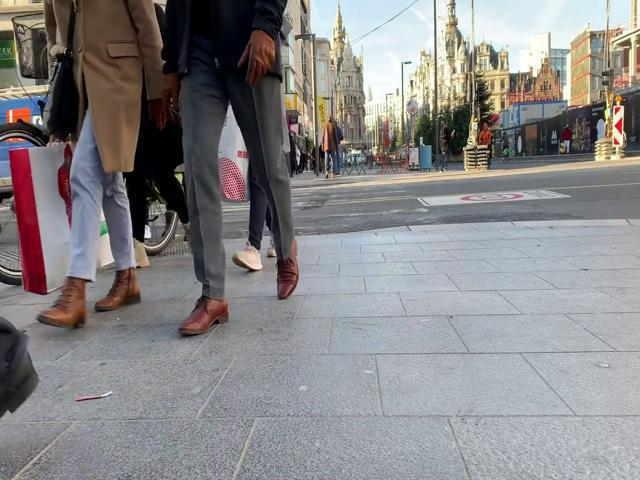shoe: (38, 277, 86, 328), (175, 299, 229, 337), (94, 270, 141, 312), (271, 240, 299, 298), (232, 244, 262, 270)
